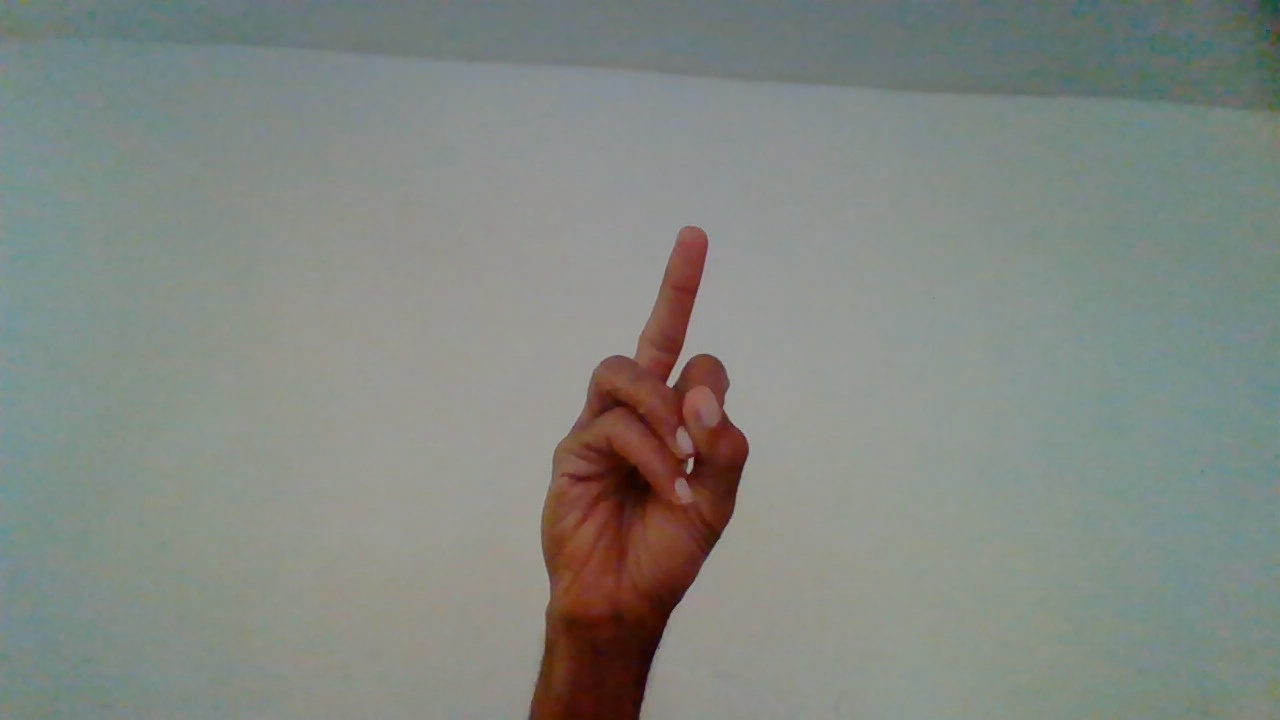he: (538, 227, 750, 720)
